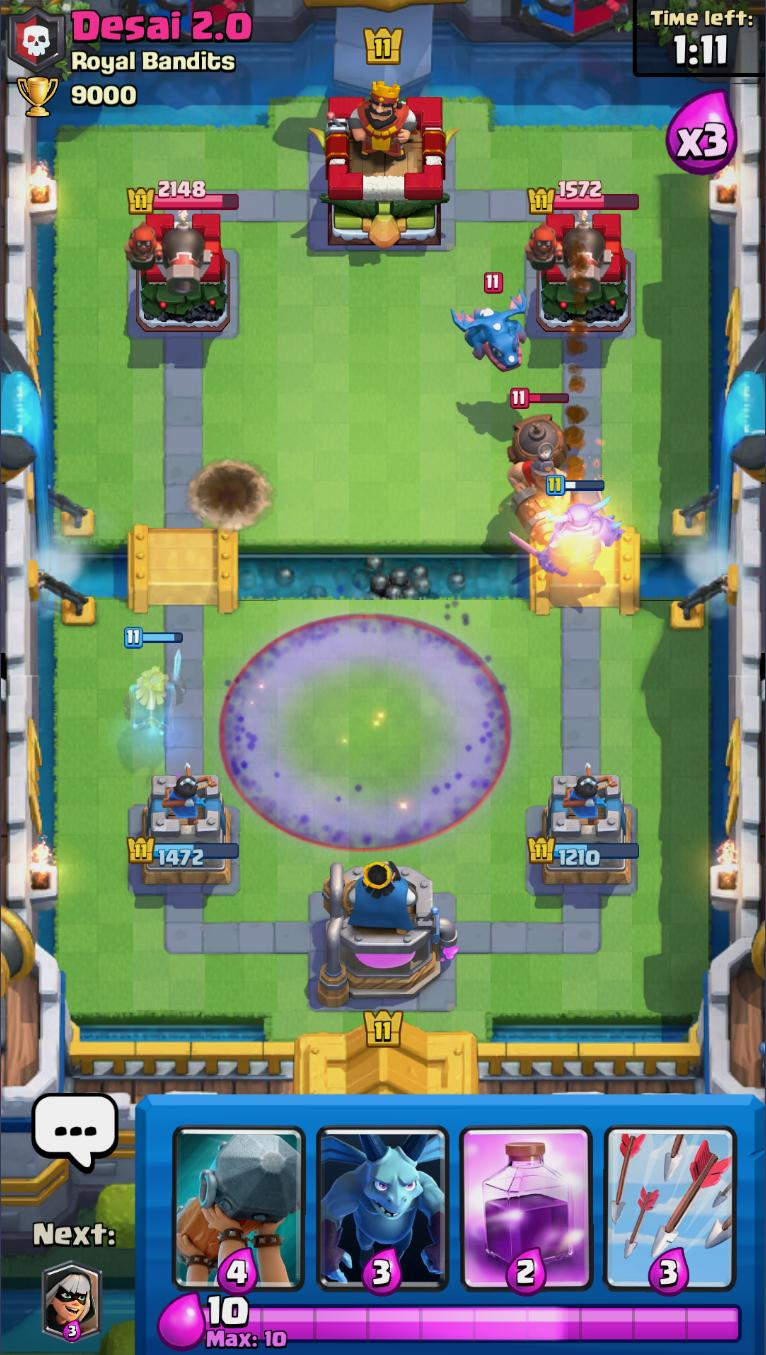ArrowDeck: (601, 1097, 740, 1294)
Bandit: (42, 1264, 104, 1341)
BattleRamDeck: (169, 1094, 313, 1295)
Cannoneer: (522, 216, 607, 296), (125, 215, 205, 298)
ElectroDragon: (449, 271, 531, 375)
Elixir: (202, 1297, 745, 1350)
EnemyTower: (524, 212, 634, 333), (125, 211, 232, 333)
Graveyard: (222, 616, 509, 850)
KingTower: (308, 82, 462, 250)
MightyMiner: (506, 388, 570, 543)
MinionsDeck: (311, 1097, 454, 1299)
MyKingTower: (317, 859, 459, 1009)
MyPekka: (510, 475, 623, 578)
MyPrincessTower: (129, 767, 240, 888), (529, 769, 640, 886)
MyPrincessTowerHP: (127, 835, 241, 867), (528, 837, 640, 869)
MyRoyaleGhost: (123, 626, 183, 734)
RageDeck: (454, 1096, 600, 1297)
TowerPrincessHP: (529, 180, 641, 214), (129, 182, 241, 215)
